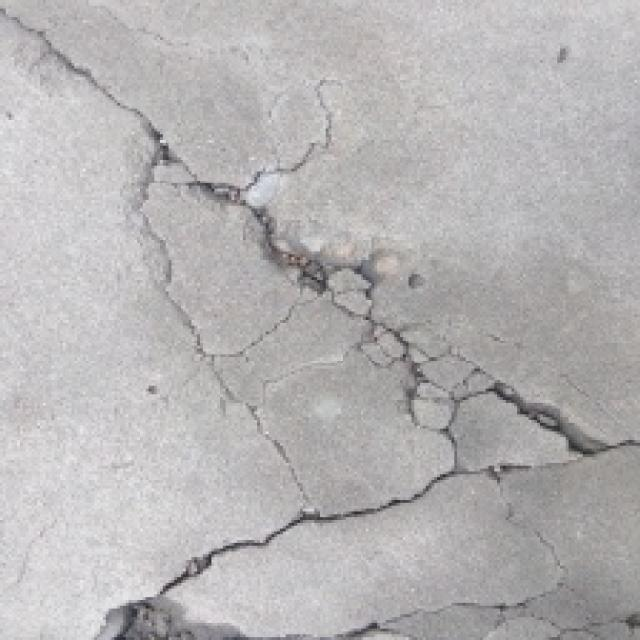crack: (0, 0, 604, 482), (82, 406, 640, 640)
